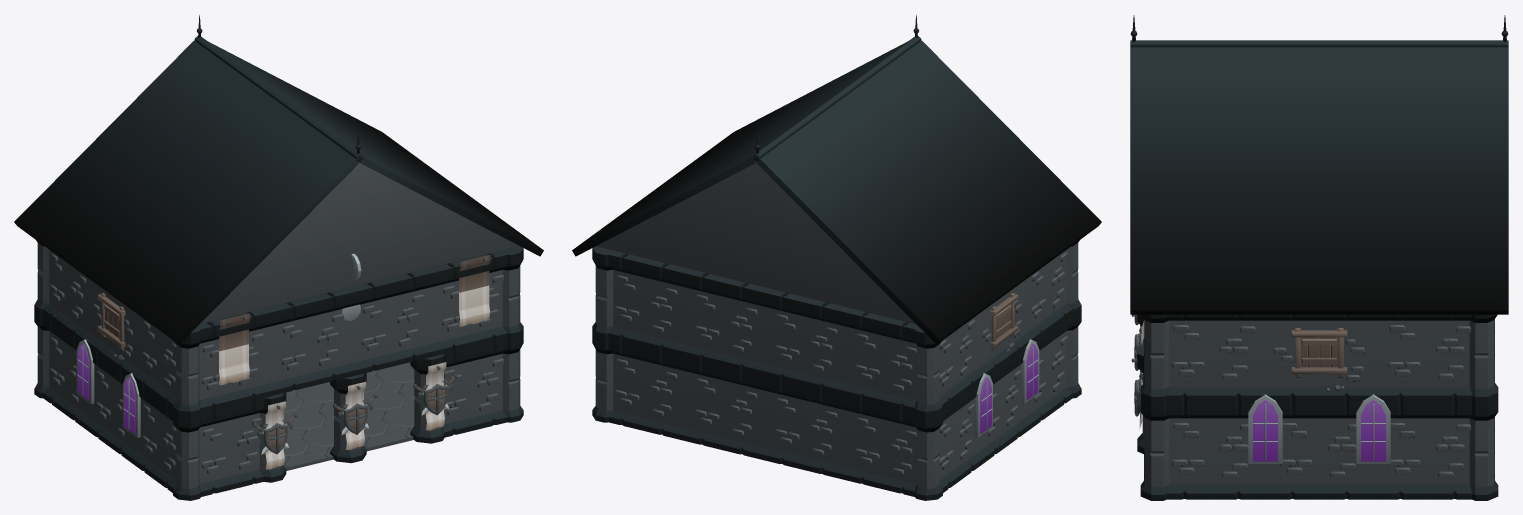
The model's file is bank_barrowhold.glb.
3 renders of one model, left to right at view 1: azimuth 30°, elevation 25°; view 2: azimuth 150°, elevation 25°; view 3: azimuth 270°, elevation 25°, orthographic. The views are drawn at different scales.
Parts seen in each view (by area): view 1: bank_barrowhold; view 2: bank_barrowhold; view 3: bank_barrowhold.
Part boxes in pixels (x1=…): bank_barrowhold: x1=14, y1=15, x2=543, y2=500; bank_barrowhold: x1=572, y1=15, x2=1101, y2=500; bank_barrowhold: x1=1130, y1=15, x2=1508, y2=500.
Bounding box in the file's own units: 13.79 × 12.17 × 10.5.
5 materials, 5 textured.
